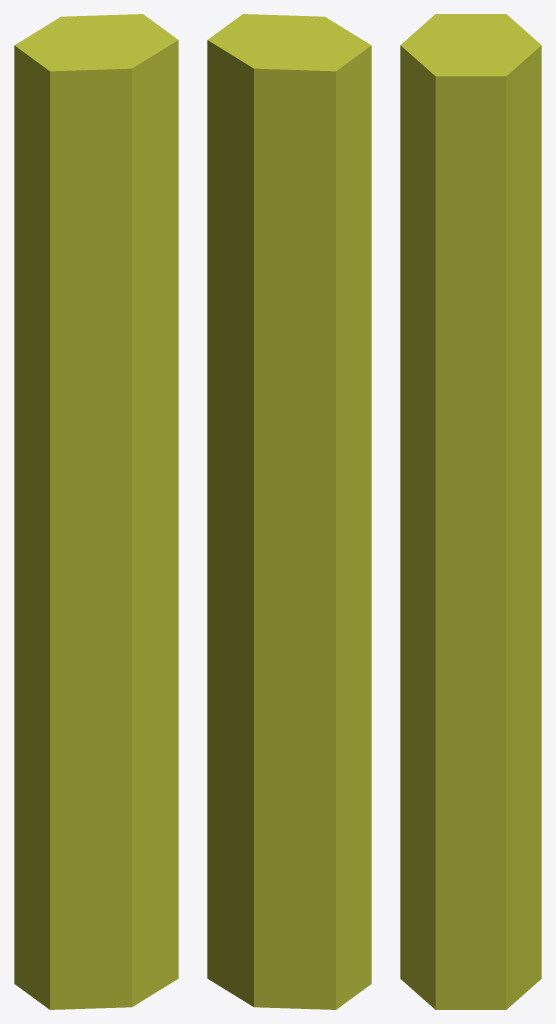
Rendered from rpi-spacer.glb.
3 renders of one model, left to right at view 1: azimuth 30°, elevation 25°; view 2: azimuth 150°, elevation 25°; view 3: azimuth 270°, elevation 25°, orthographic.
Parts seen in each view (by area): view 1: Mesh_Mesh_head_geo.001_lambert2SG.001; view 2: Mesh_Mesh_head_geo.001_lambert2SG.001; view 3: Mesh_Mesh_head_geo.001_lambert2SG.001.
Part boxes in pixels (x1,y1,x2,y2): Mesh_Mesh_head_geo.001_lambert2SG.001: [14, 14, 178, 1009]; Mesh_Mesh_head_geo.001_lambert2SG.001: [207, 14, 371, 1009]; Mesh_Mesh_head_geo.001_lambert2SG.001: [400, 14, 541, 1009].
Bounding box in the file's own units: 0.00287 × 0.02 × 0.00275.
